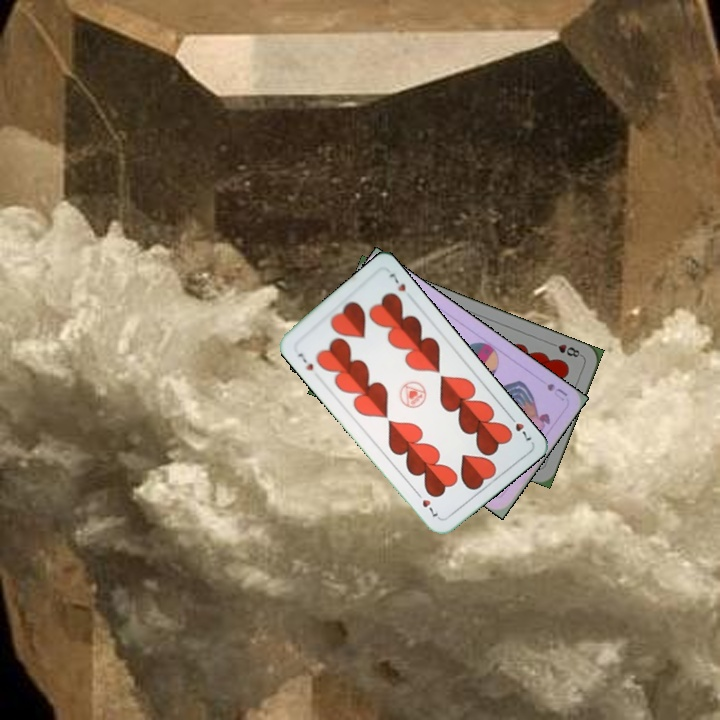H7: (504, 410, 534, 443), (294, 349, 316, 373)
H8: (545, 338, 584, 360)
SU: (543, 379, 570, 403)
